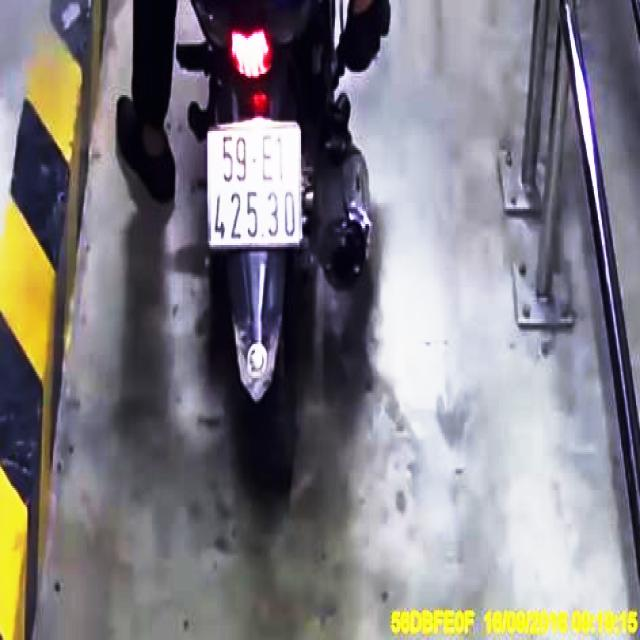license_plate: (208, 126, 302, 246)
